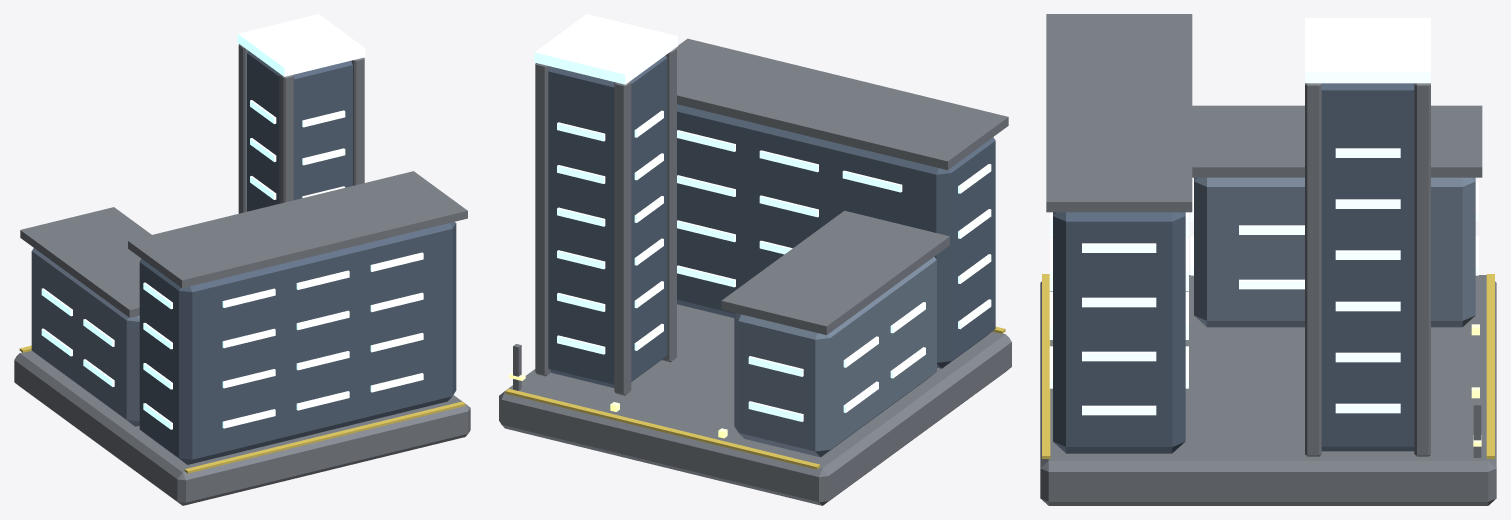
The model's file is zone_high_6_t1.glb.
3 views of the same model, side by side, from view 1: azimuth 30°, elevation 25°; view 2: azimuth 150°, elevation 25°; view 3: azimuth 270°, elevation 25° (orthographic). The views are drawn at different scales.
Parts seen in each view (by area): view 1: zone_high_6_t1, detail; view 2: zone_high_6_t1, detail; view 3: zone_high_6_t1, detail.
Part boxes in pixels (x1,y1,x2,y2): zone_high_6_t1: (14, 14, 470, 505); detail: (19, 345, 465, 473); zone_high_6_t1: (499, 14, 1011, 505); detail: (505, 326, 1005, 469); zone_high_6_t1: (1040, 14, 1496, 505); detail: (1042, 274, 1494, 458).
Bounding box in the file's own units: 27.5 × 28.7 × 27.5.
